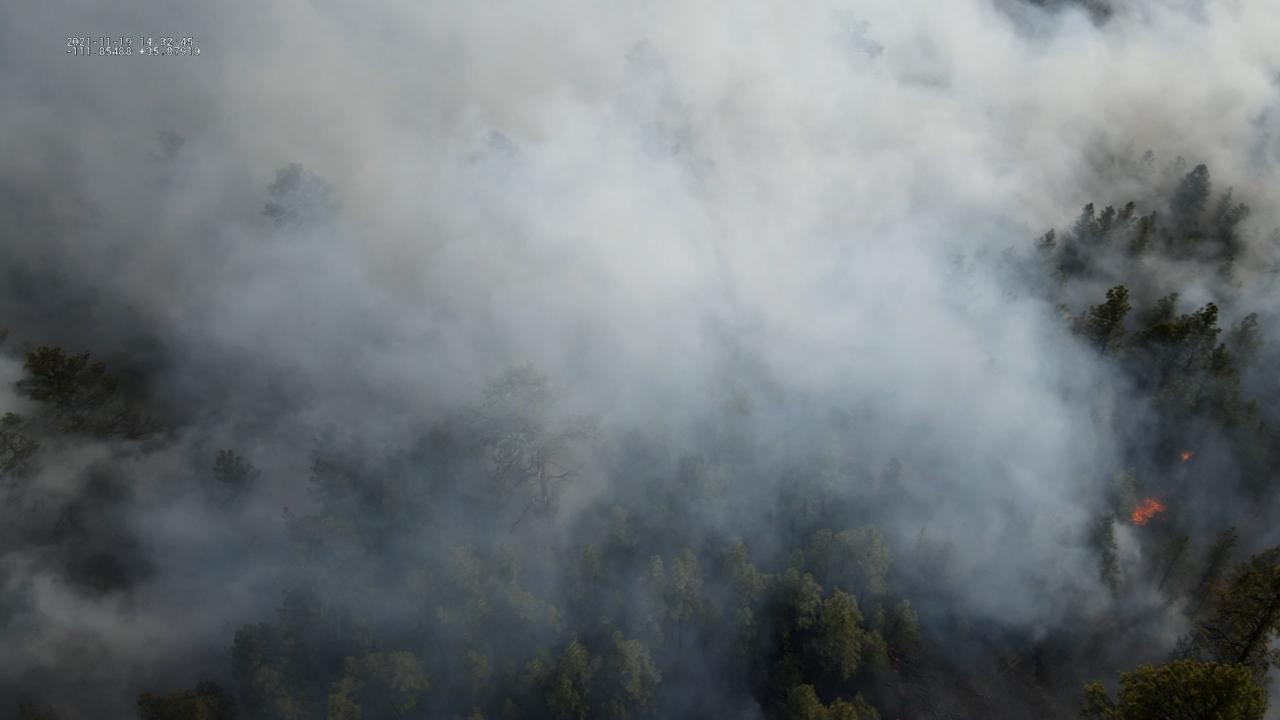fire: (1127, 496, 1168, 530), (1178, 449, 1195, 464)
smoke: (0, 0, 1280, 720)
